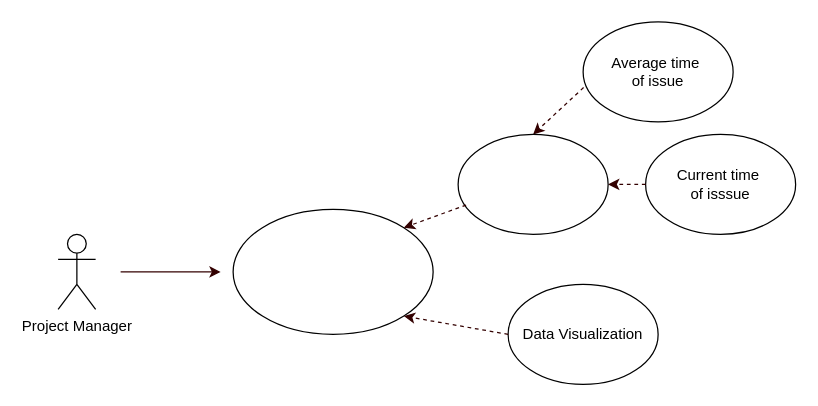
Some shapes in this 818 by 406 pixel diagram are drawn without their labels. Each missing label, with the box of its shape:
Git Hub Data for current Project: (457, 133, 608, 234)
View current time of issue vs. average time length of issue till closed: (232, 208, 433, 334)
